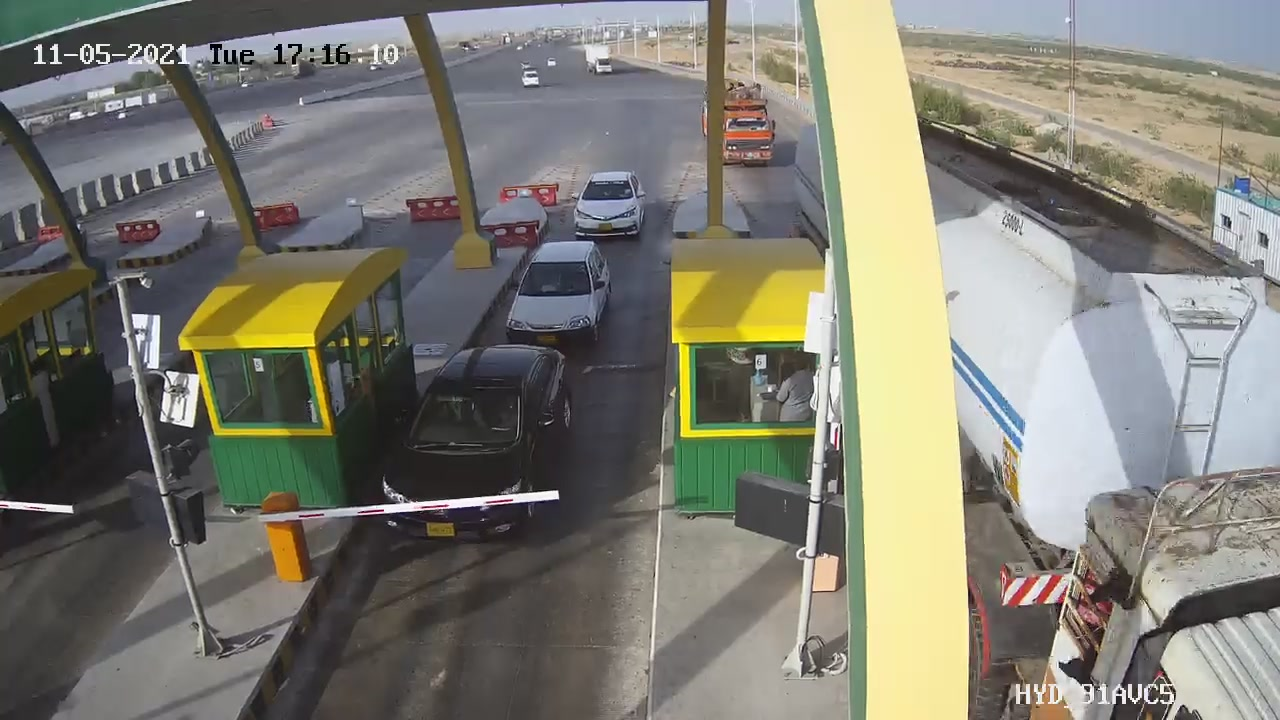F1: (368, 333, 594, 557), (491, 230, 626, 356)
